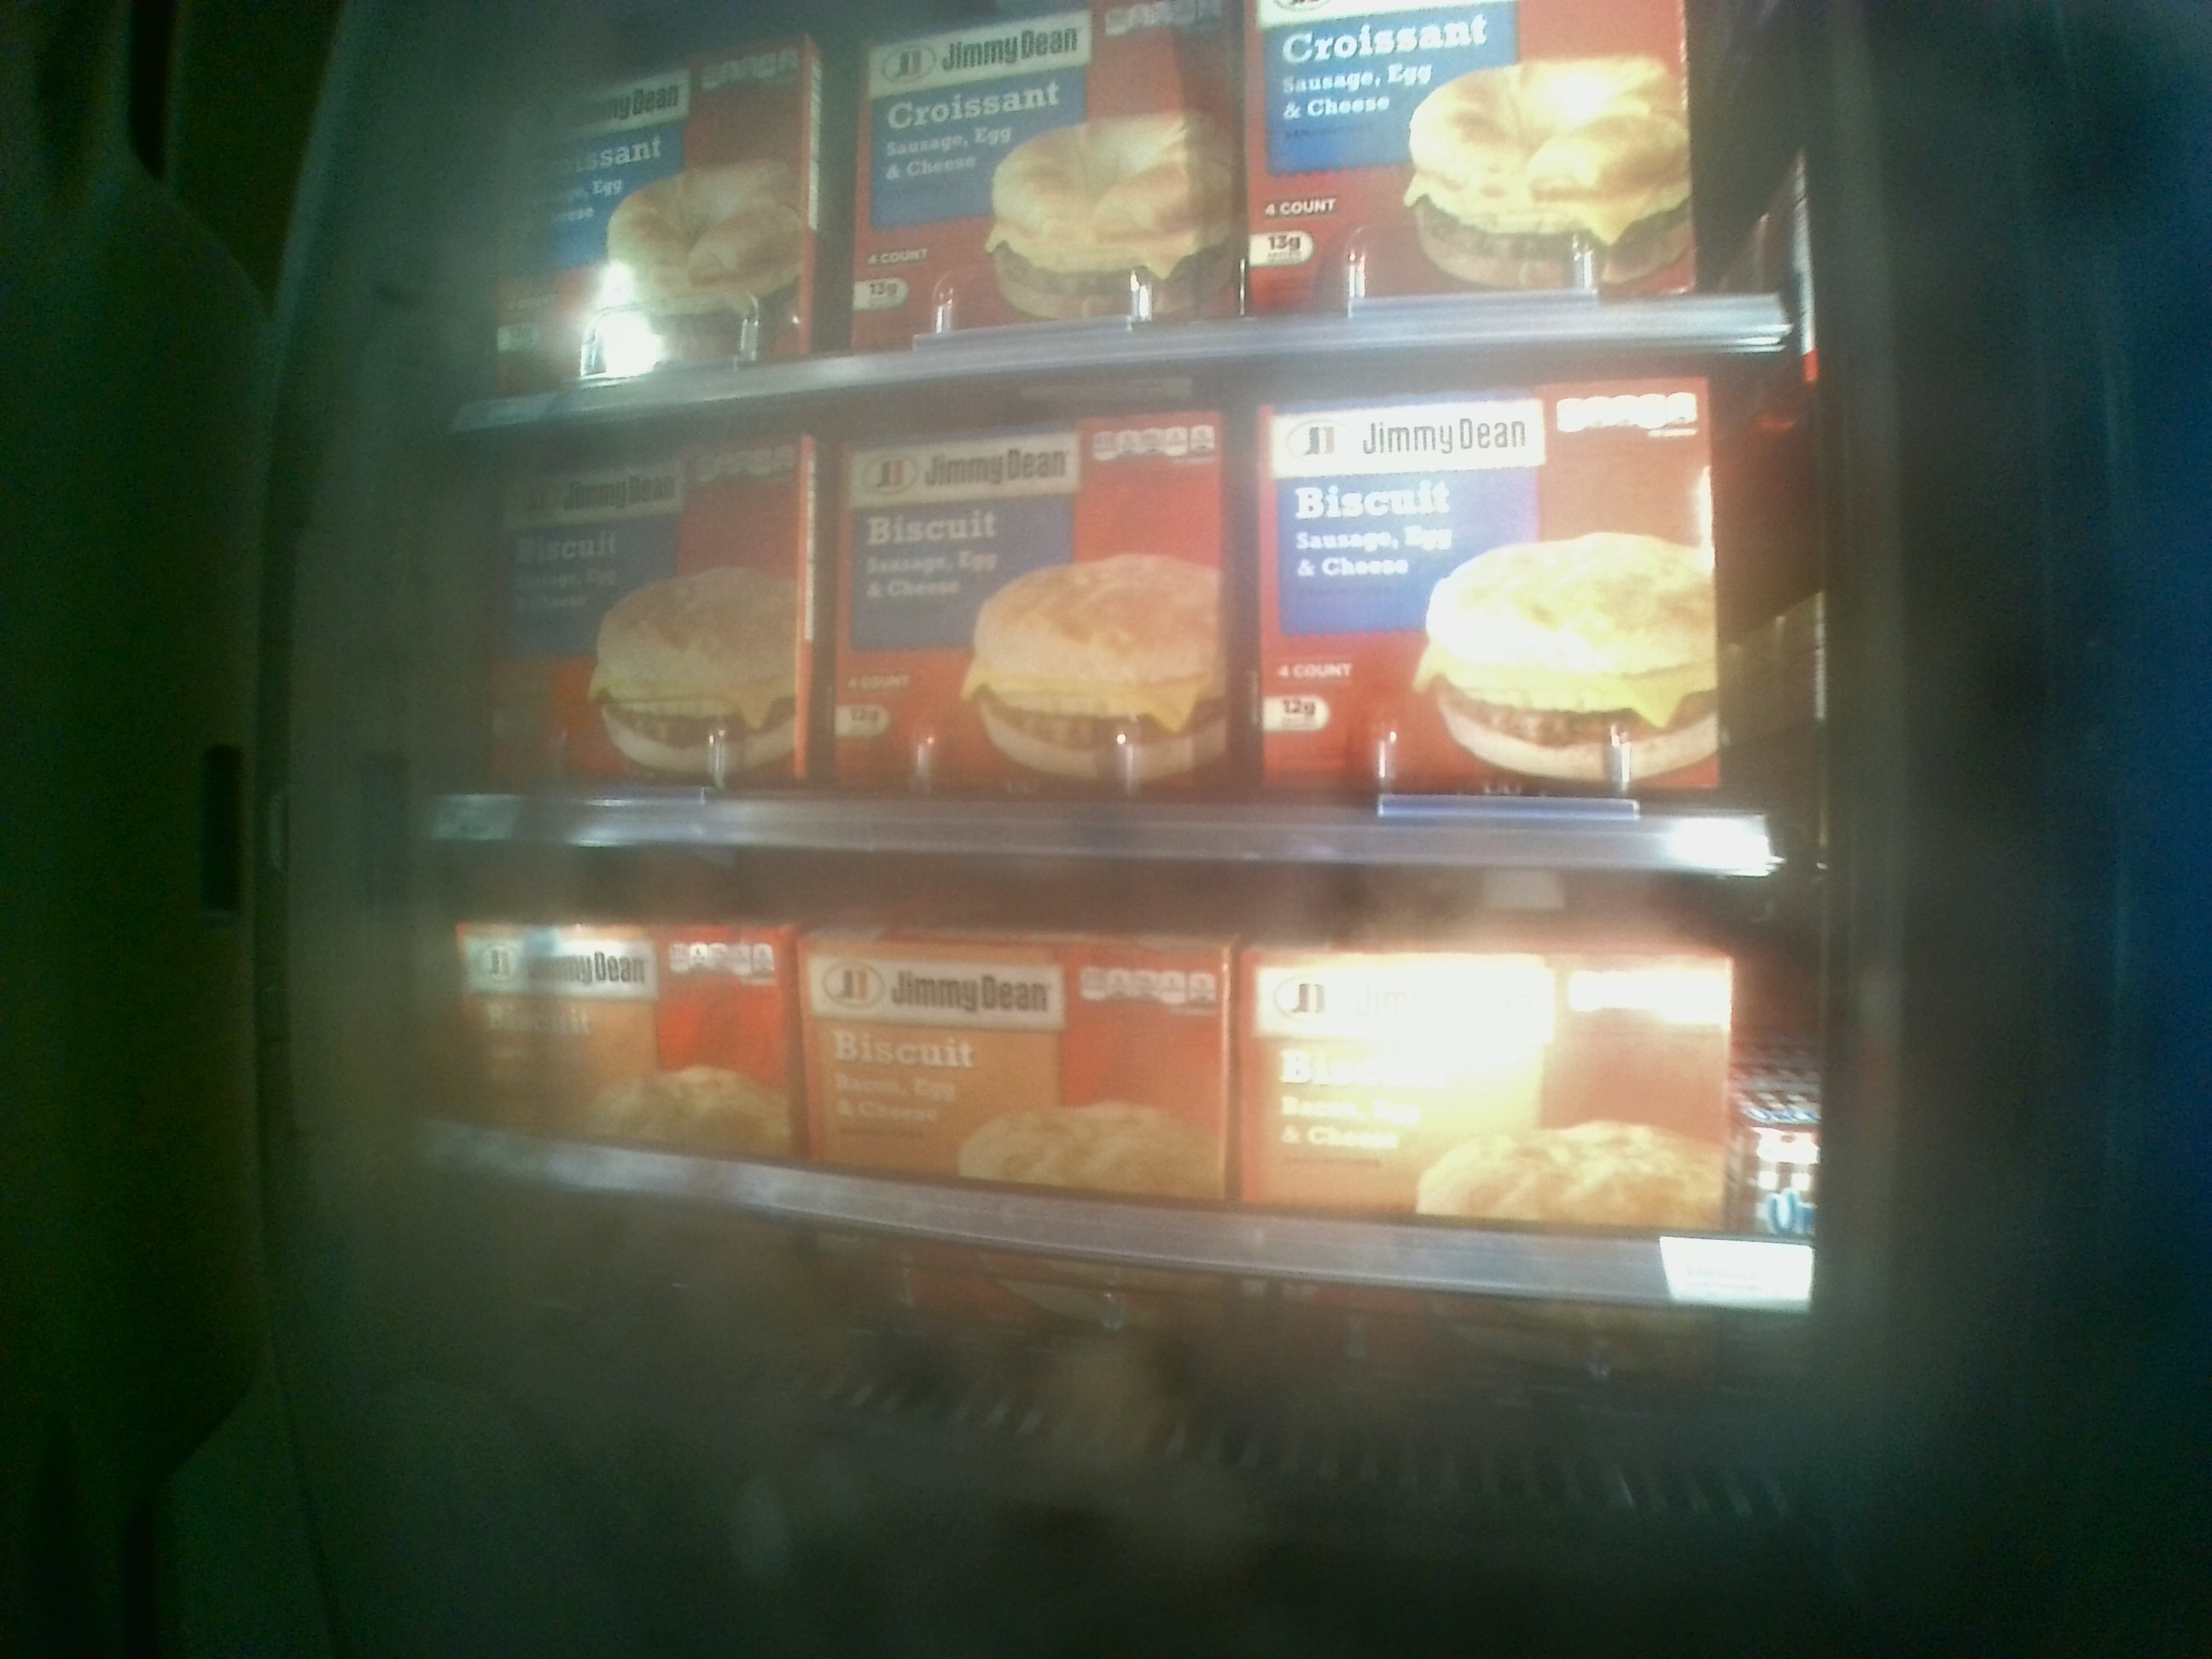shelf: (432, 843, 1806, 1485), (446, 347, 1804, 868)
